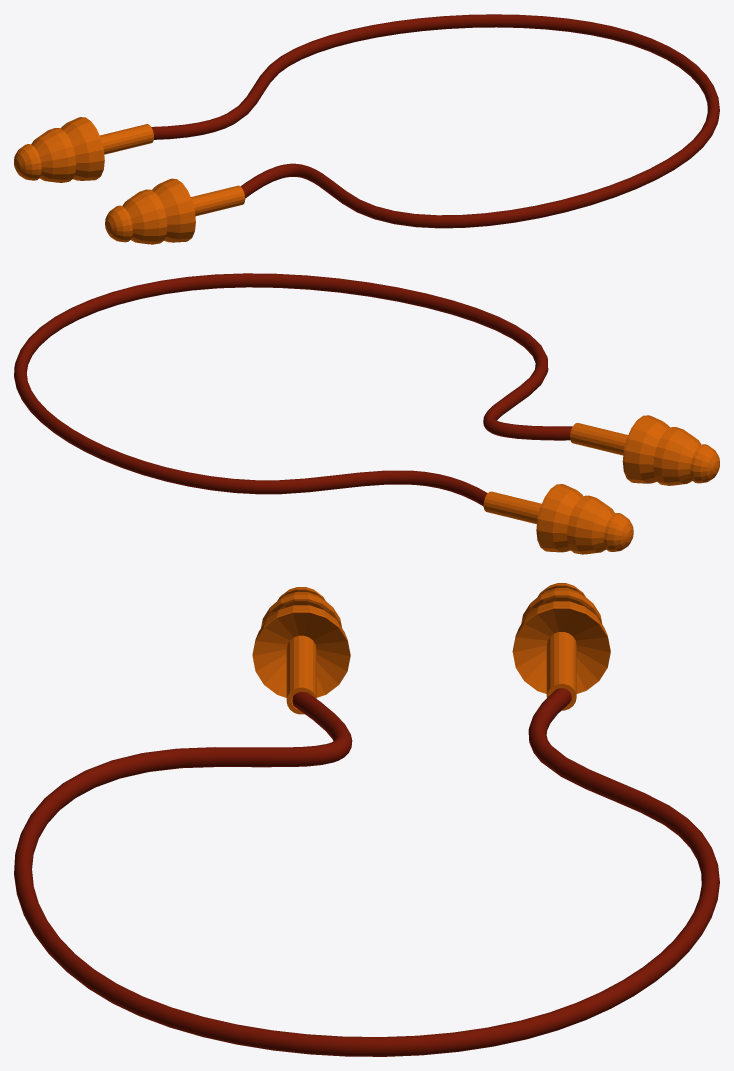
Rendered from protetor ouvido.FBX.
3 views of the same model, one above another, from view 1: azimuth 30°, elevation 25°; view 2: azimuth 150°, elevation 25°; view 3: azimuth 270°, elevation 25° (orthographic). The views are drawn at different scales.
Visible parts, largest first — view 1: Sweep1, ear 002, ear 1; view 2: Sweep1, ear 1, ear 002; view 3: Sweep1, ear 1, ear 002.
Boxes of the visible parts, box(x1,y1,x2,y2) form: Sweep1: box(151, 14, 719, 228); ear 002: box(105, 178, 245, 244); ear 1: box(14, 117, 153, 182); Sweep1: box(14, 273, 572, 506); ear 1: box(483, 484, 633, 554); ear 002: box(570, 415, 719, 485); Sweep1: box(14, 688, 719, 1056); ear 1: box(512, 583, 610, 710); ear 002: box(252, 587, 350, 714).
Bounding box in the file's own units: 5.48 × 0.4959 × 3.62.
